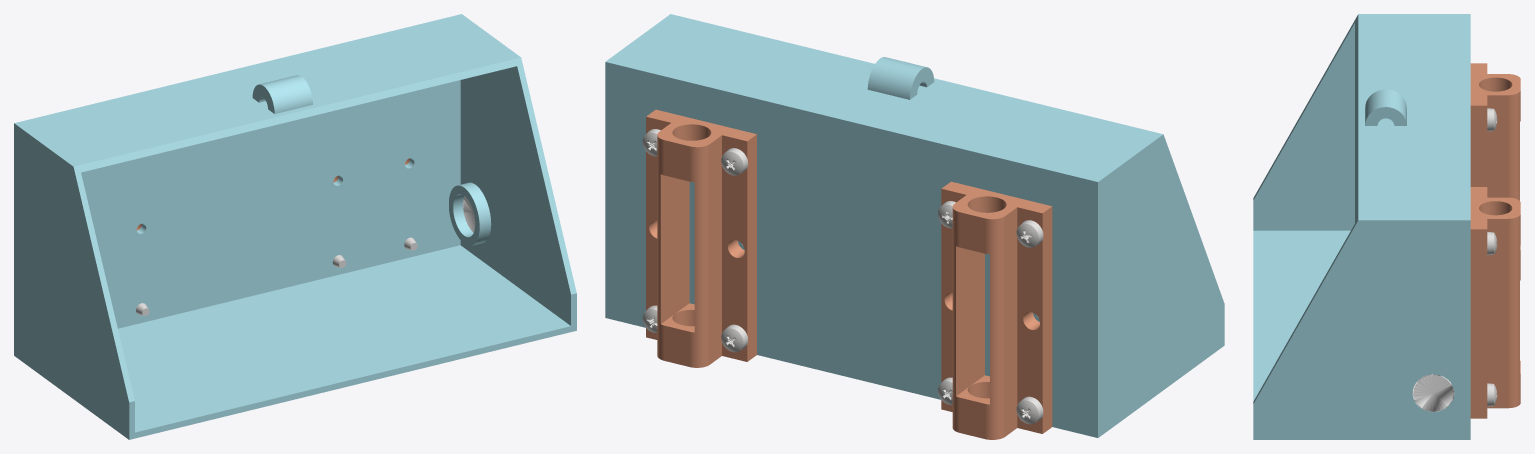
File: monte-charge_nacelle.gltf
The picture shows the model from 3 angles, left to right: view 1: azimuth 30°, elevation 25°; view 2: azimuth 150°, elevation 25°; view 3: azimuth 270°, elevation 25°; orthographic projection. The views are drawn at different scales.
Parts seen in each view (by area): view 1: charriot; view 2: charriot; view 3: charriot.
Part boxes in pixels (bbox=[...]): charriot: bbox=[14, 14, 576, 439]; charriot: bbox=[605, 14, 1224, 439]; charriot: bbox=[1253, 14, 1520, 439].
Bounding box in the file's own units: 0.1168 × 0.063 × 0.064.
